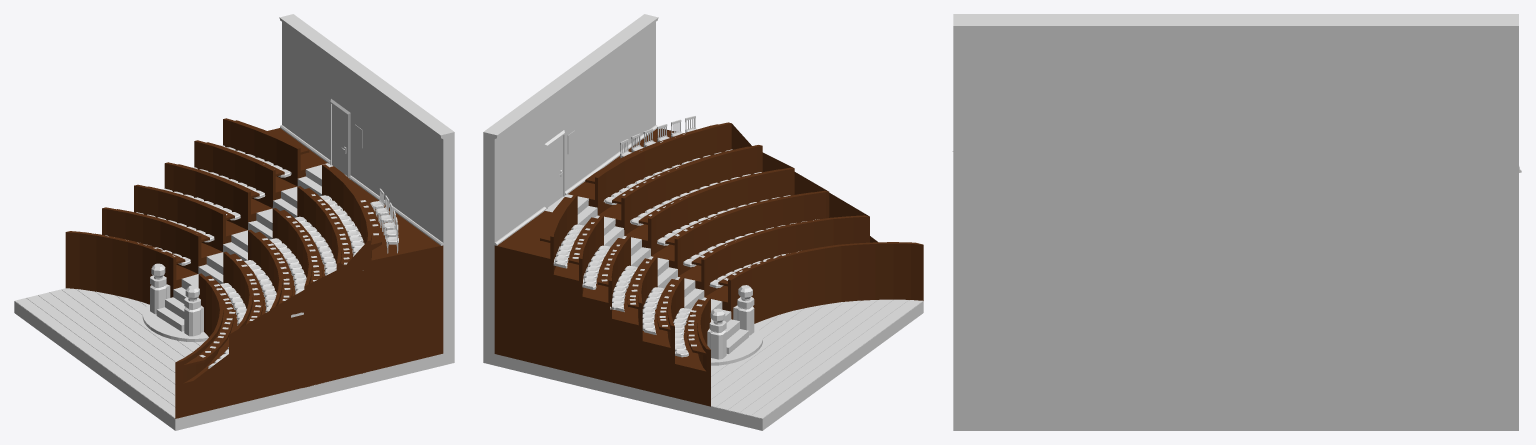
The model's file is level_4.fbx.
3 views of the same model, side by side, from view 1: azimuth 30°, elevation 25°; view 2: azimuth 150°, elevation 25°; view 3: azimuth 270°, elevation 25° (orthographic). The views are drawn at different scales.
Visible parts, largest first — view 1: seats, wall, floor, stairs, sseat pillows, columns, door, papers, chairs; view 2: seats, wall, floor, sseat pillows, stairs, columns, door, chairs, papers; view 3: wall, floor.
Boxes of the visible parts, <box> form: seats: <box>65,118,443,418</box>; wall: <box>279,14,454,353</box>; floor: <box>14,288,454,430</box>; stairs: <box>142,163,346,342</box>; sseat pillows: <box>136,145,364,368</box>; columns: <box>150,263,203,336</box>; door: <box>330,99,350,177</box>; papers: <box>92,194,378,357</box>; chairs: <box>370,188,398,253</box>; seats: <box>494,122,923,406</box>; wall: <box>483,14,658,353</box>; floor: <box>483,299,923,430</box>; sseat pillows: <box>553,149,817,357</box>; stairs: <box>545,194,762,365</box>; columns: <box>707,285,754,359</box>; door: <box>544,130,564,208</box>; chairs: <box>620,116,696,158</box>; papers: <box>572,133,798,346</box>; wall: <box>953,14,1518,409</box>; floor: <box>953,410,1518,430</box>.
Size of the model in its own units: 1000 by 790 by 1007.
